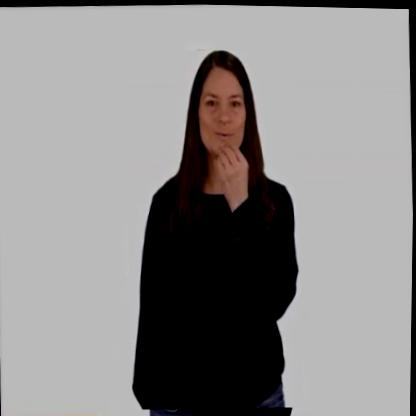Food: (121, 45, 308, 412)
